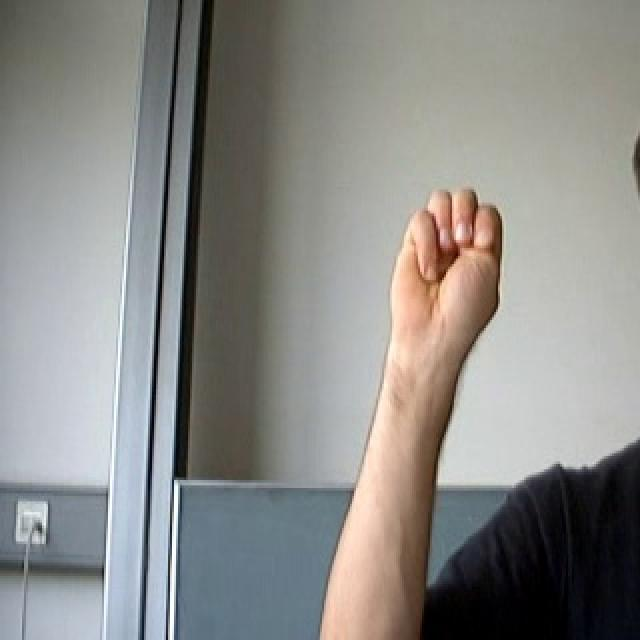M: (383, 160, 515, 369)
